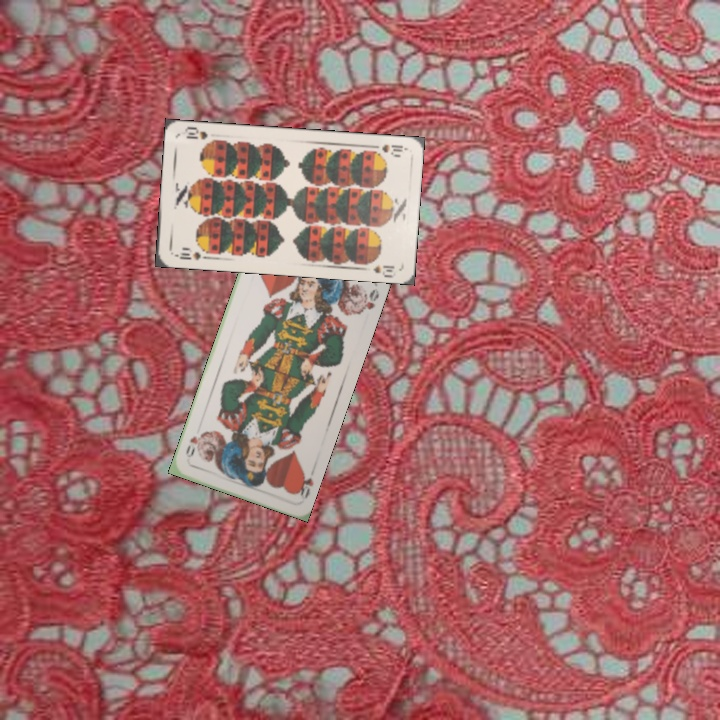HO: (292, 466, 316, 503)
S10: (367, 140, 408, 158), (170, 248, 203, 262)
